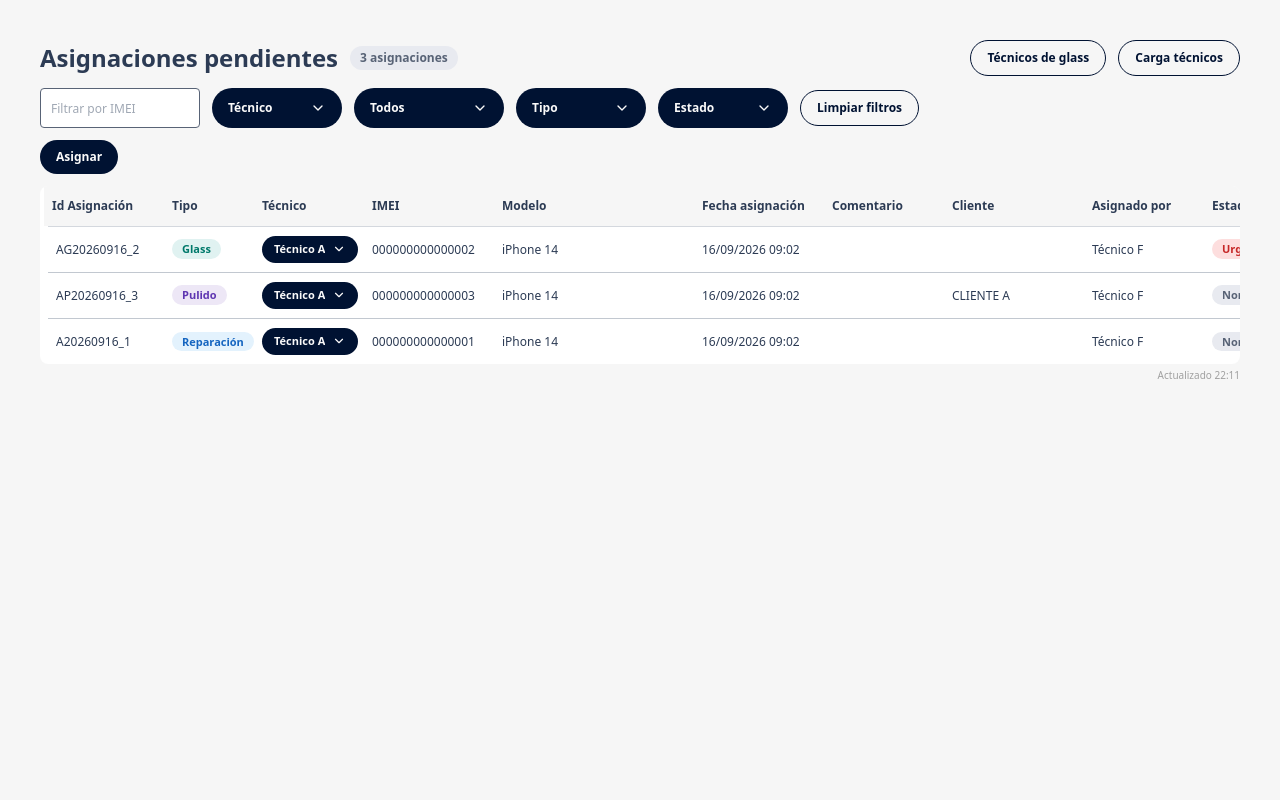
AsignacionesPage · filtro Cliente tras una recarga (calco de poblarFiltroCliente) › con el filtro a medias, un cliente que llega en una recarga entra marcado y sus filas se ven
Expected: the text "AP20260916_3" is shown, [44,272,164,318]
Filtro a medias: se desmarca "CLIENTE A" y quedan solo las filas sin cliente.
Click the button "Todos".
click(429, 108)  # box [354,88,504,128]
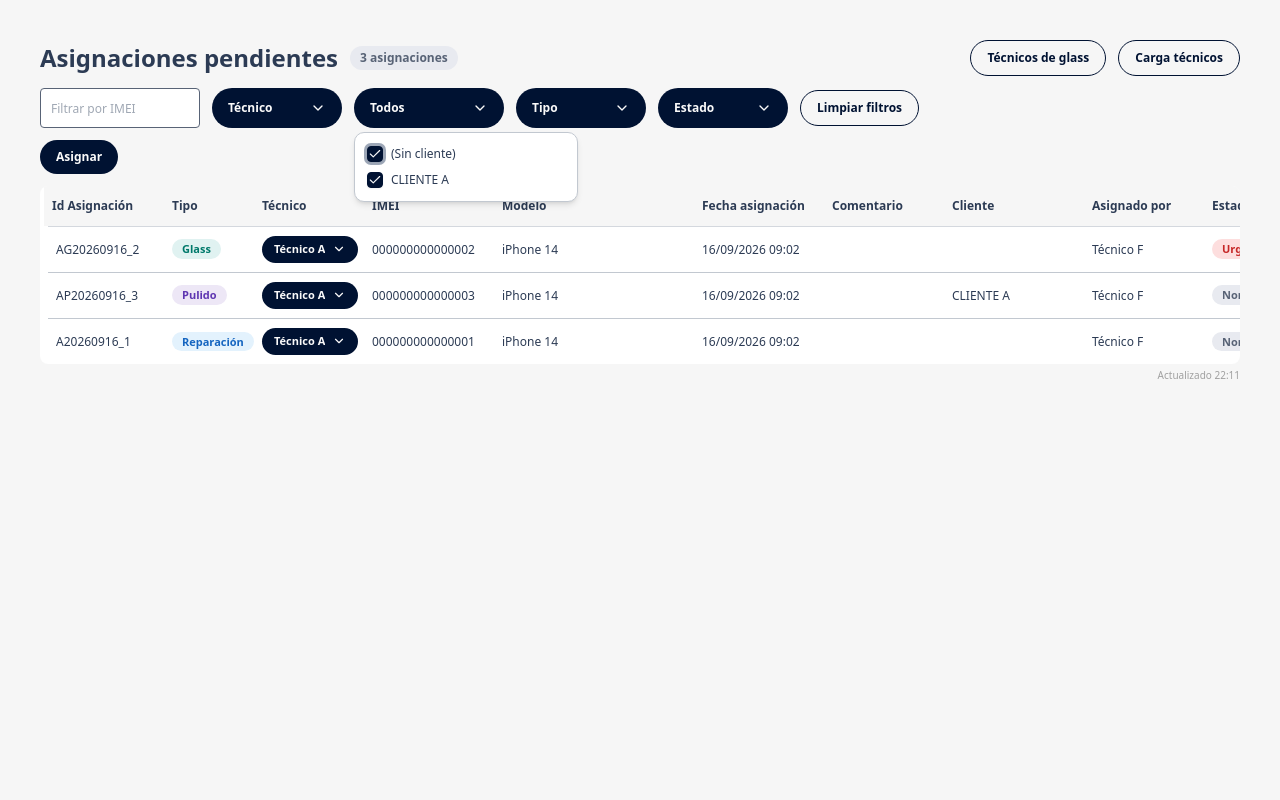
Click the checkbox named "CLIENTE A".
click(375, 180)  # box [367,172,383,188]
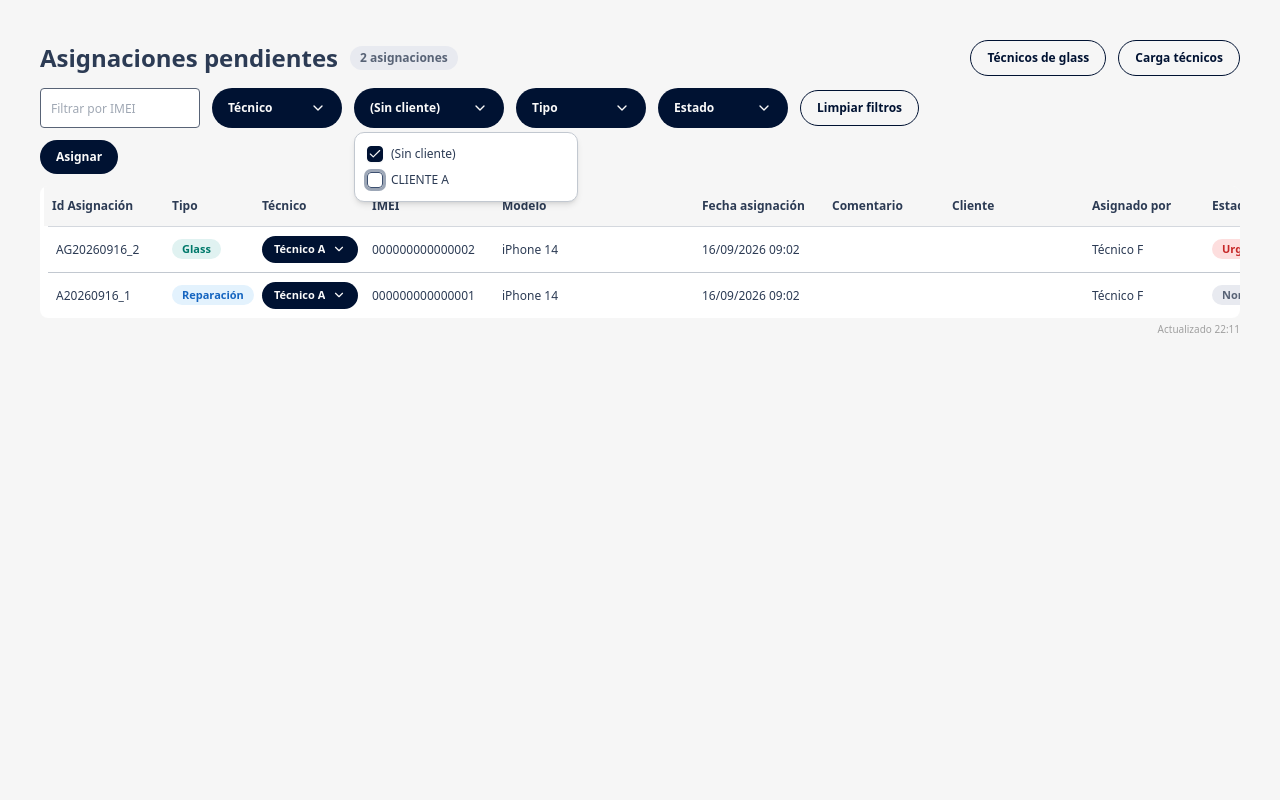
Press Escape
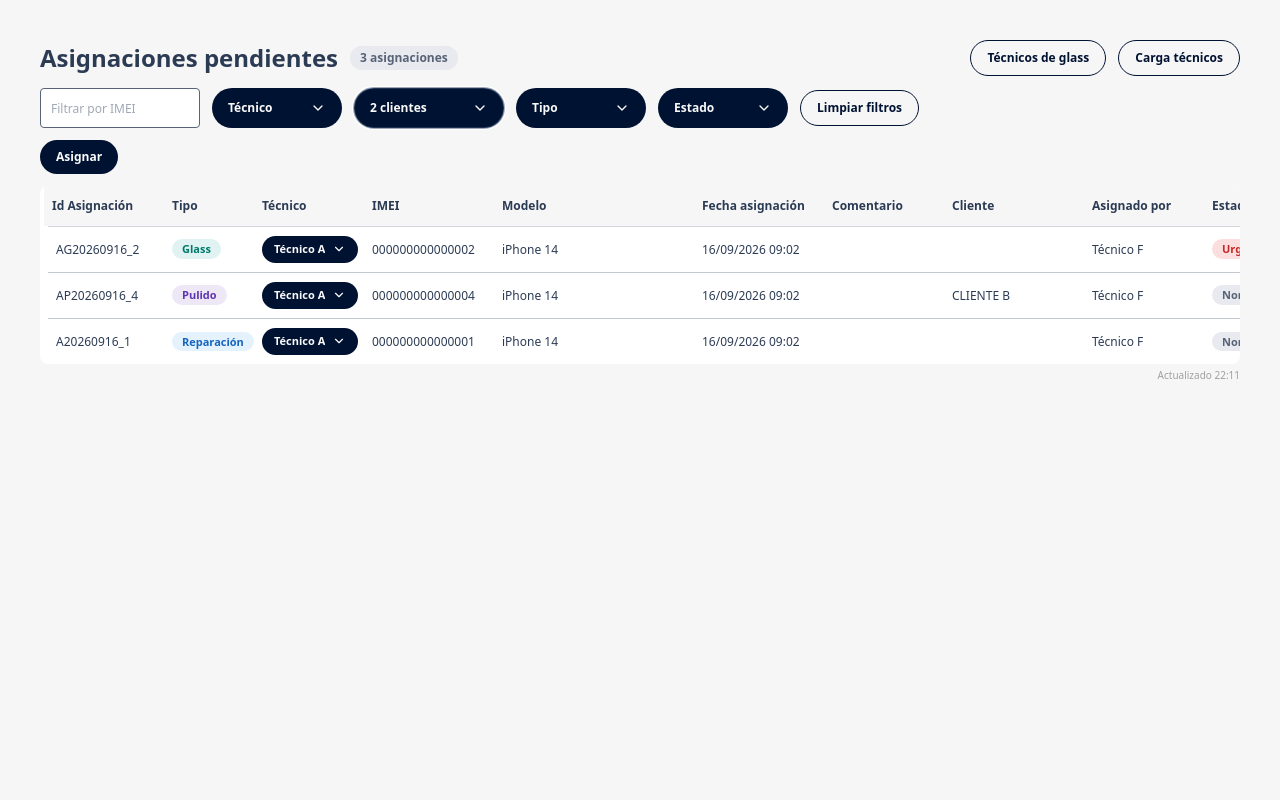
Expected: the text "AP20260916_3" is not shown
Result: the text "AP20260916_4" is shown at [44,272,164,318]
Click the button "2 clientes".
click(429, 108)  # box [354,88,504,128]
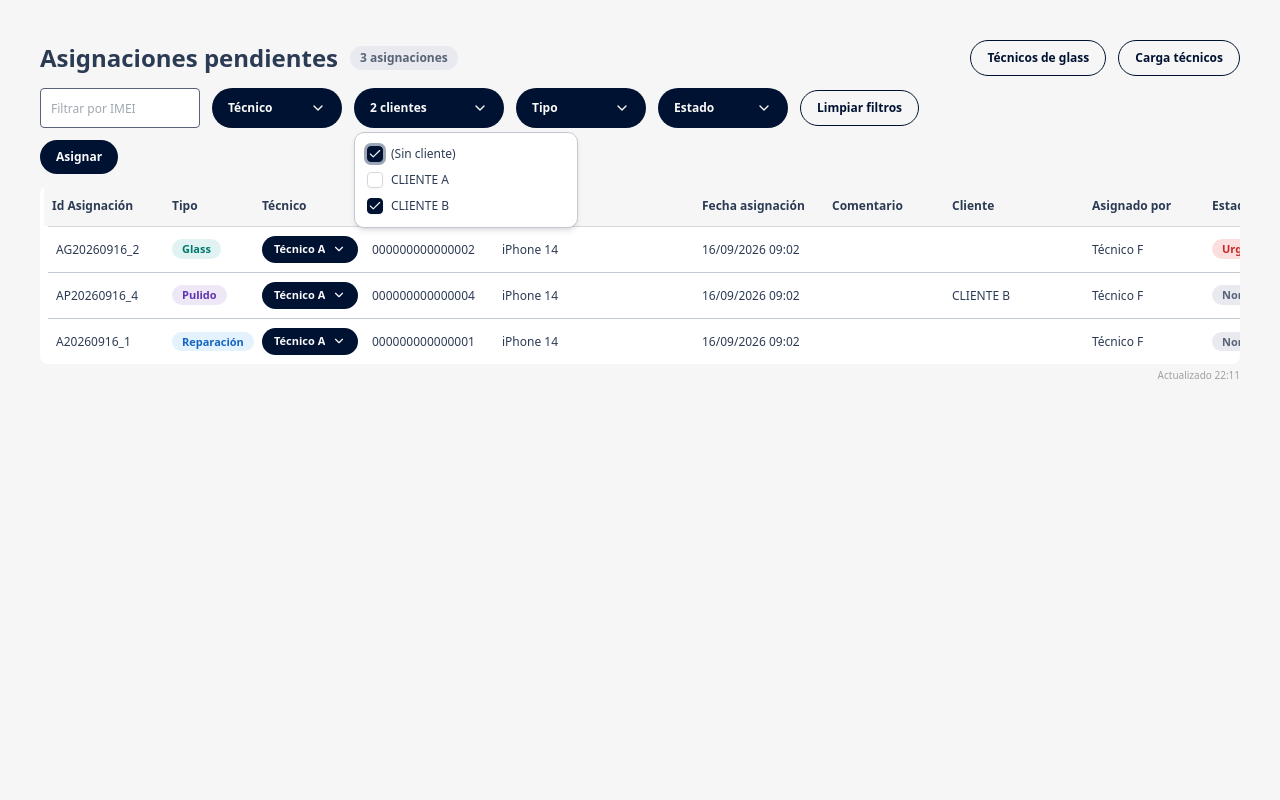
Result: the checkbox named "CLIENTE B" is checked at [367,198,383,214]
Result: the checkbox named "CLIENTE A" is not checked at [367,172,383,188]
